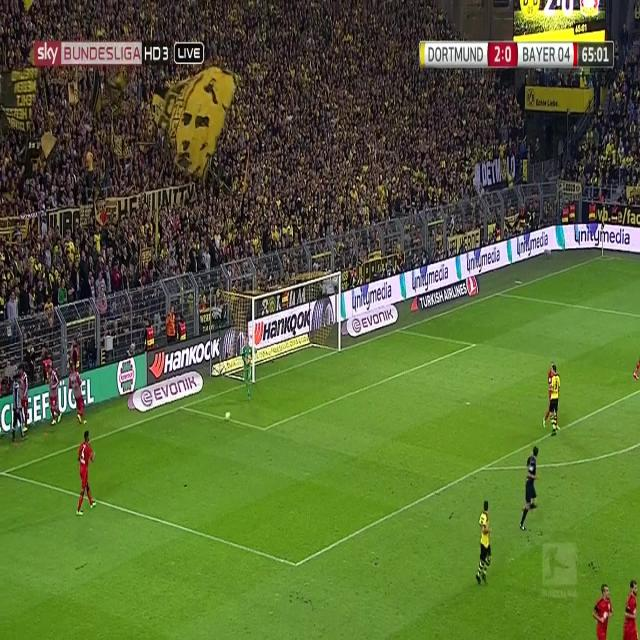Ball: (223, 406, 233, 424)
Goalkeeper: (241, 334, 254, 402)
Player: (74, 429, 97, 517), (474, 499, 494, 587), (591, 580, 613, 640), (622, 581, 640, 640), (551, 363, 562, 442), (544, 367, 552, 429)
Referee: (516, 442, 539, 534)
